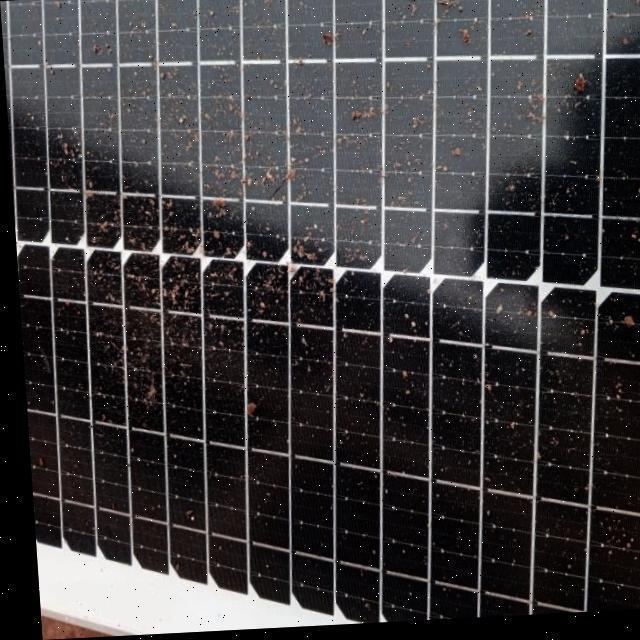Anomaly Solar Panel: (115, 0, 640, 595)
Surface Contaminant: (42, 0, 188, 298)
